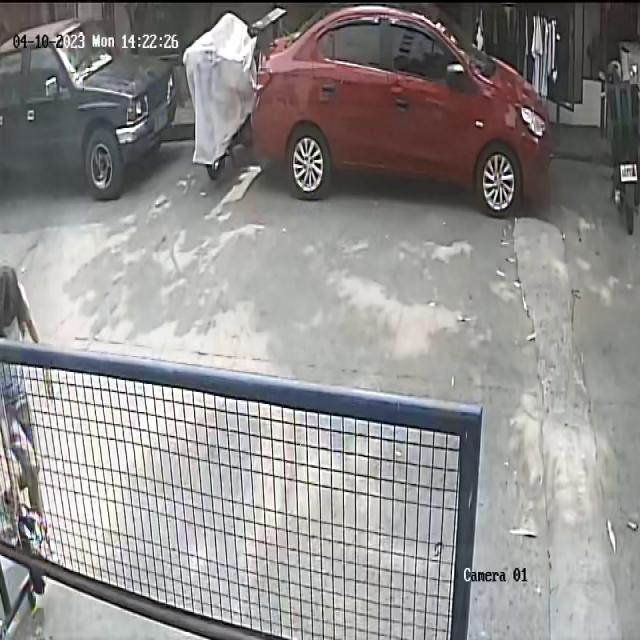human: (0, 262, 55, 594)
trash: (10, 500, 48, 573)
